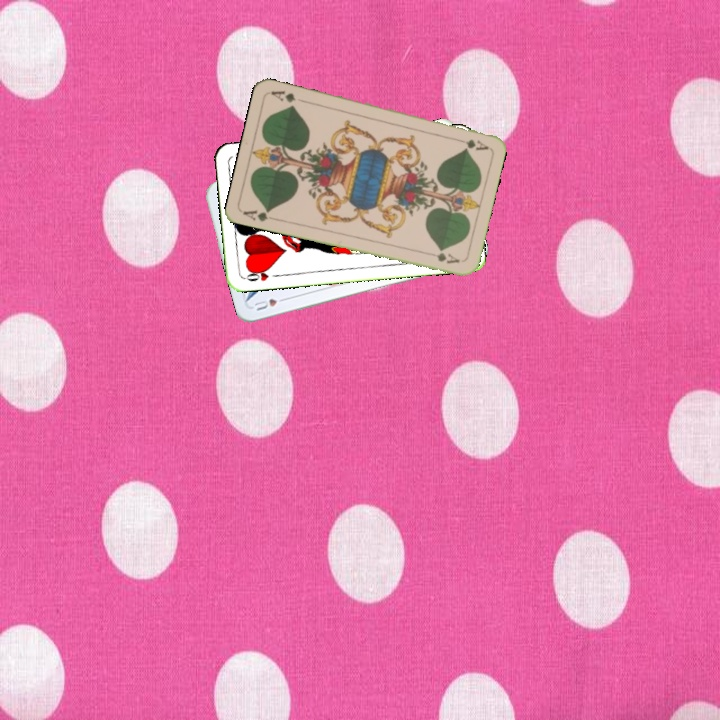GA: (239, 205, 280, 224), (450, 134, 490, 153)
HO: (241, 265, 281, 284)
HU: (250, 293, 290, 313)
